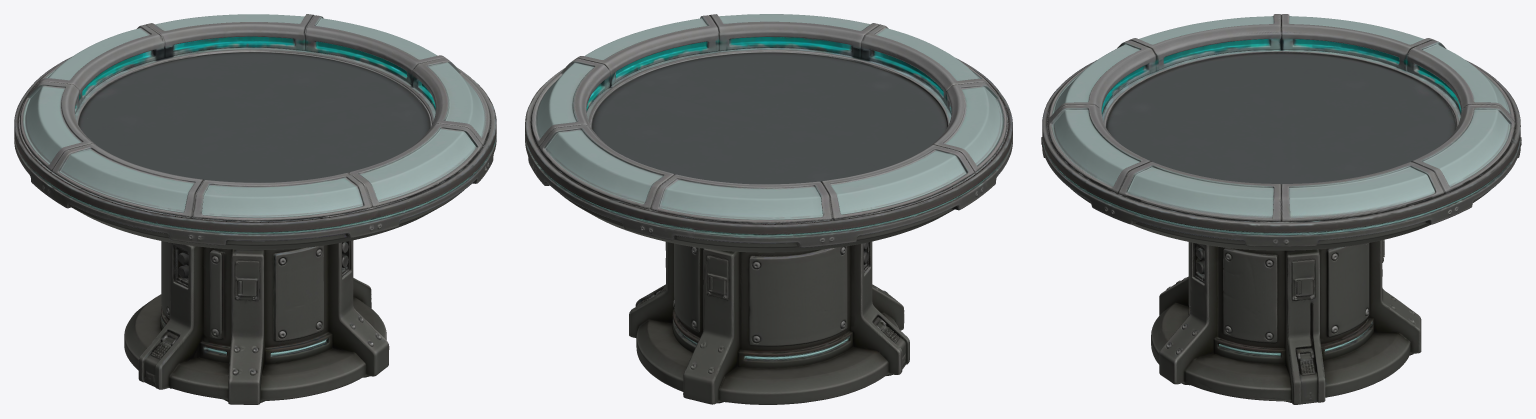
File: holo_table.glb
3 renders of one model, left to right at view 1: azimuth 30°, elevation 25°; view 2: azimuth 150°, elevation 25°; view 3: azimuth 270°, elevation 25°, orthographic.
Parts seen in each view (by area): view 1: tripo_node_ea8dec60-4511-4e71-a377-653fdeee8be1; view 2: tripo_node_ea8dec60-4511-4e71-a377-653fdeee8be1; view 3: tripo_node_ea8dec60-4511-4e71-a377-653fdeee8be1.
Part boxes in pixels (x1,y1,x2,y2): tripo_node_ea8dec60-4511-4e71-a377-653fdeee8be1: (14,14,496,404); tripo_node_ea8dec60-4511-4e71-a377-653fdeee8be1: (525,14,1012,404); tripo_node_ea8dec60-4511-4e71-a377-653fdeee8be1: (1041,14,1521,404).
Size of the model in its own units: 0.9788 by 0.546 by 0.9795.
Materials: 1 (1 with a texture image).
